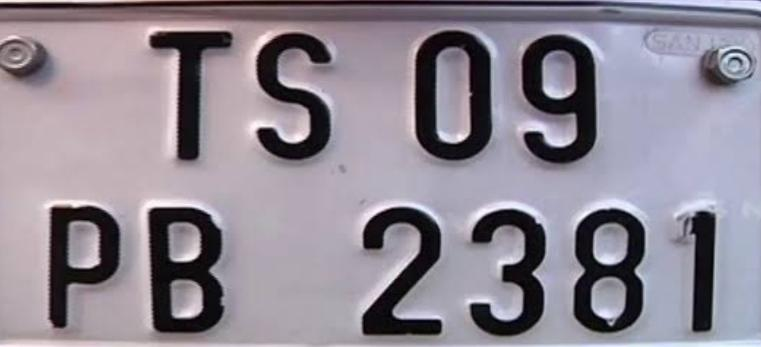0: (404, 20, 497, 163)
1: (662, 182, 724, 338)
2: (355, 190, 454, 339)
3: (459, 189, 550, 342)
8: (566, 194, 649, 343)
9: (509, 22, 601, 171)
B: (132, 193, 236, 337)
P: (44, 196, 124, 336)
S: (242, 22, 341, 164)
T: (139, 14, 233, 169)
